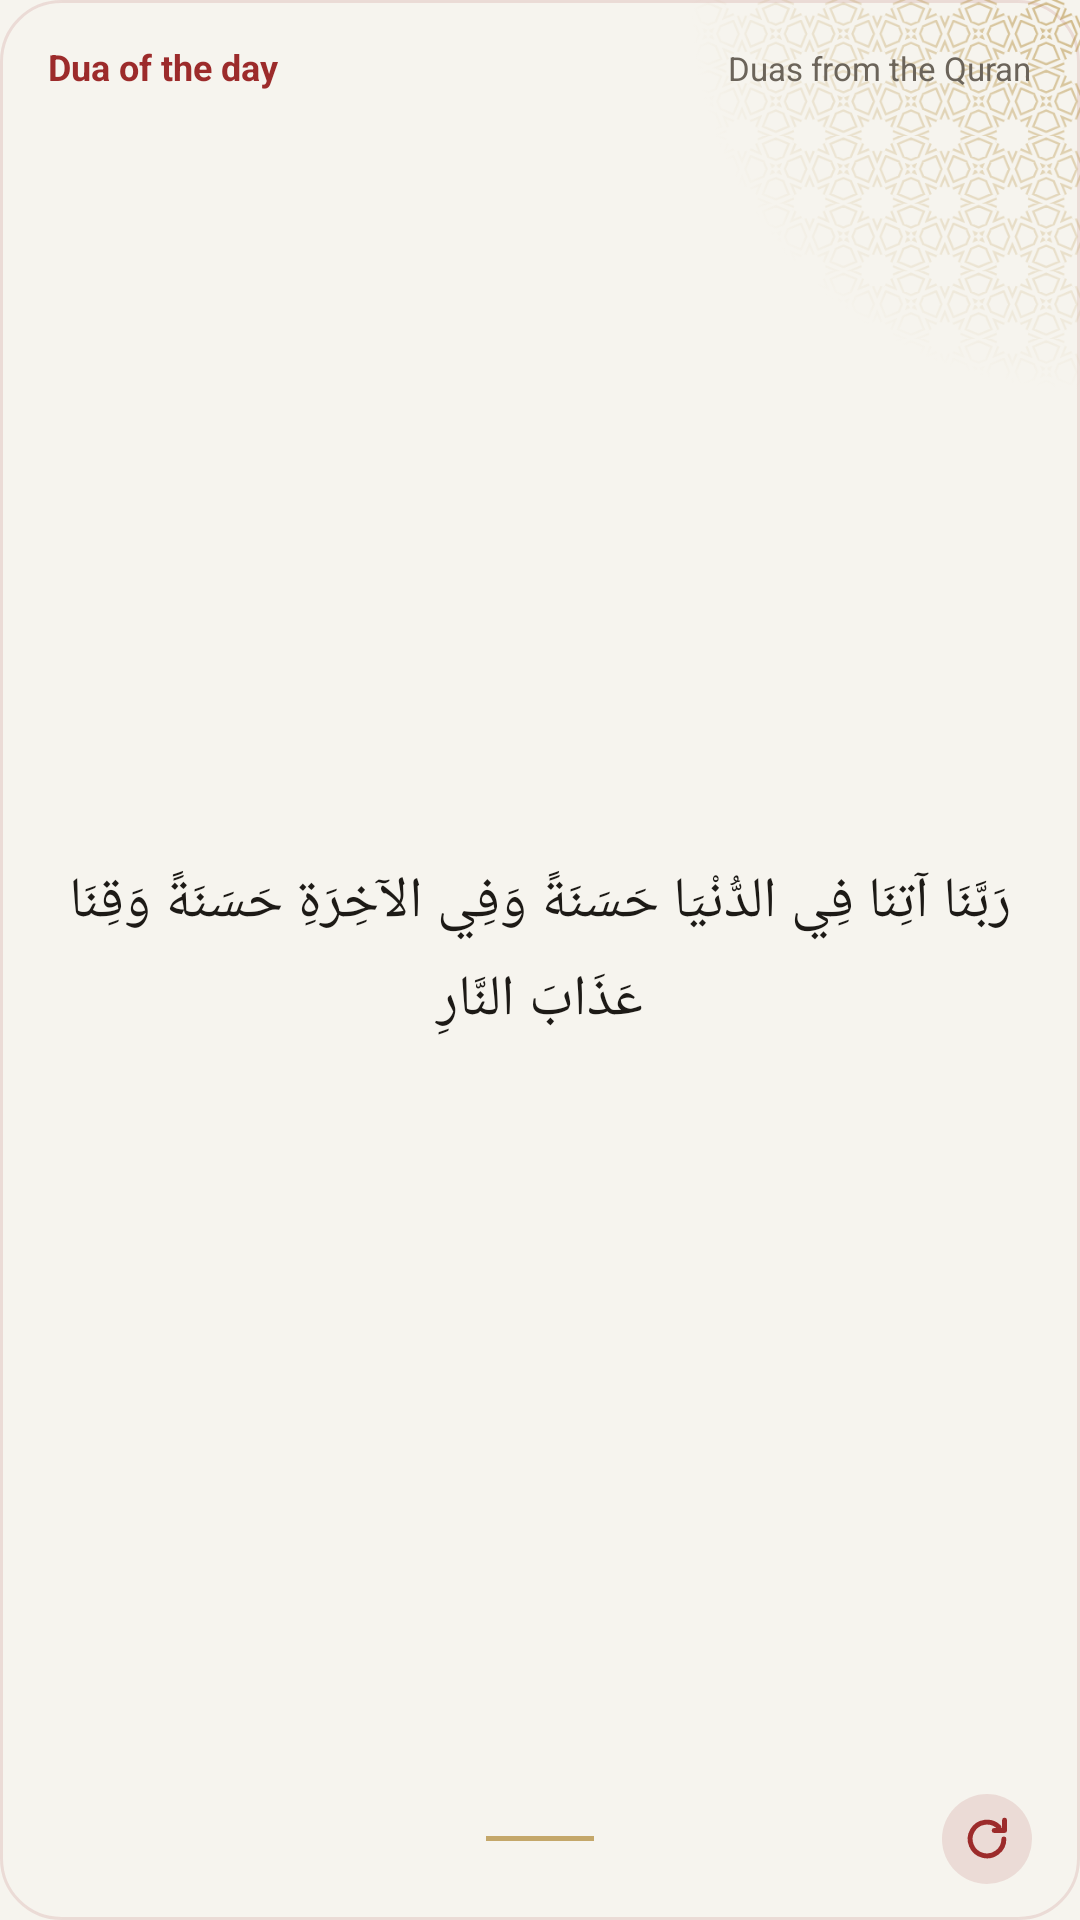

Where to tap for icons on this 1080×1920 app screen, as (x=x, y=y):
widget refresh: (x=987, y=1839)
